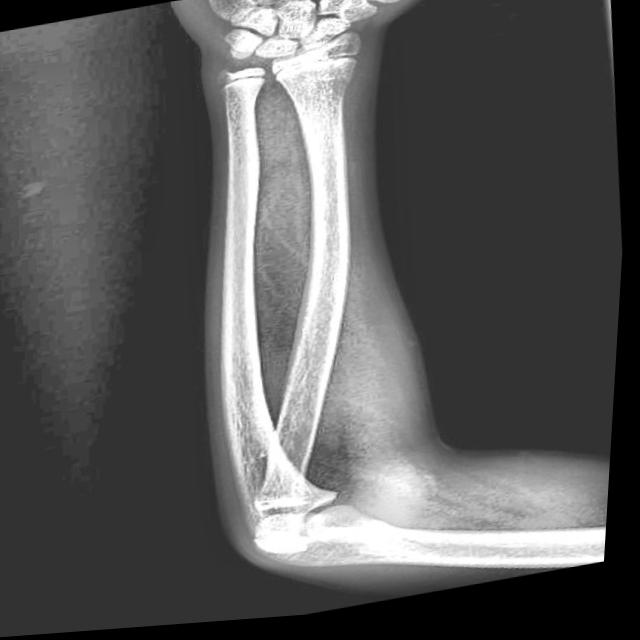fracture: (318, 77, 350, 96), (237, 458, 272, 473)
